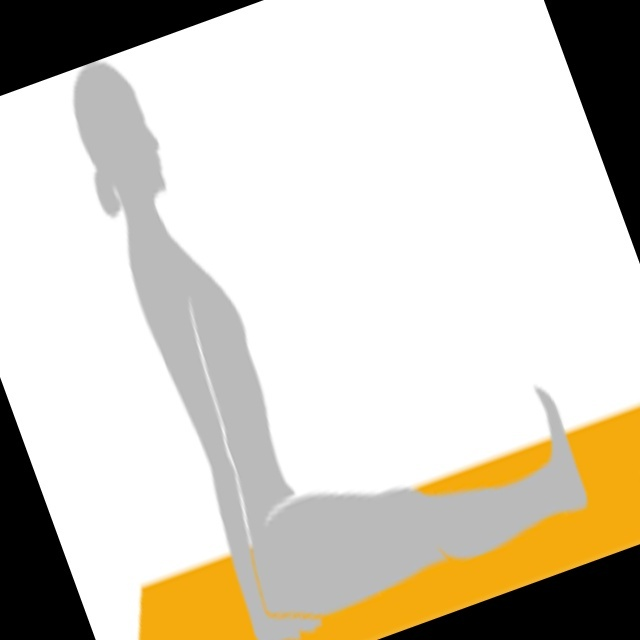Staff_Pose: (74, 63, 587, 637)
